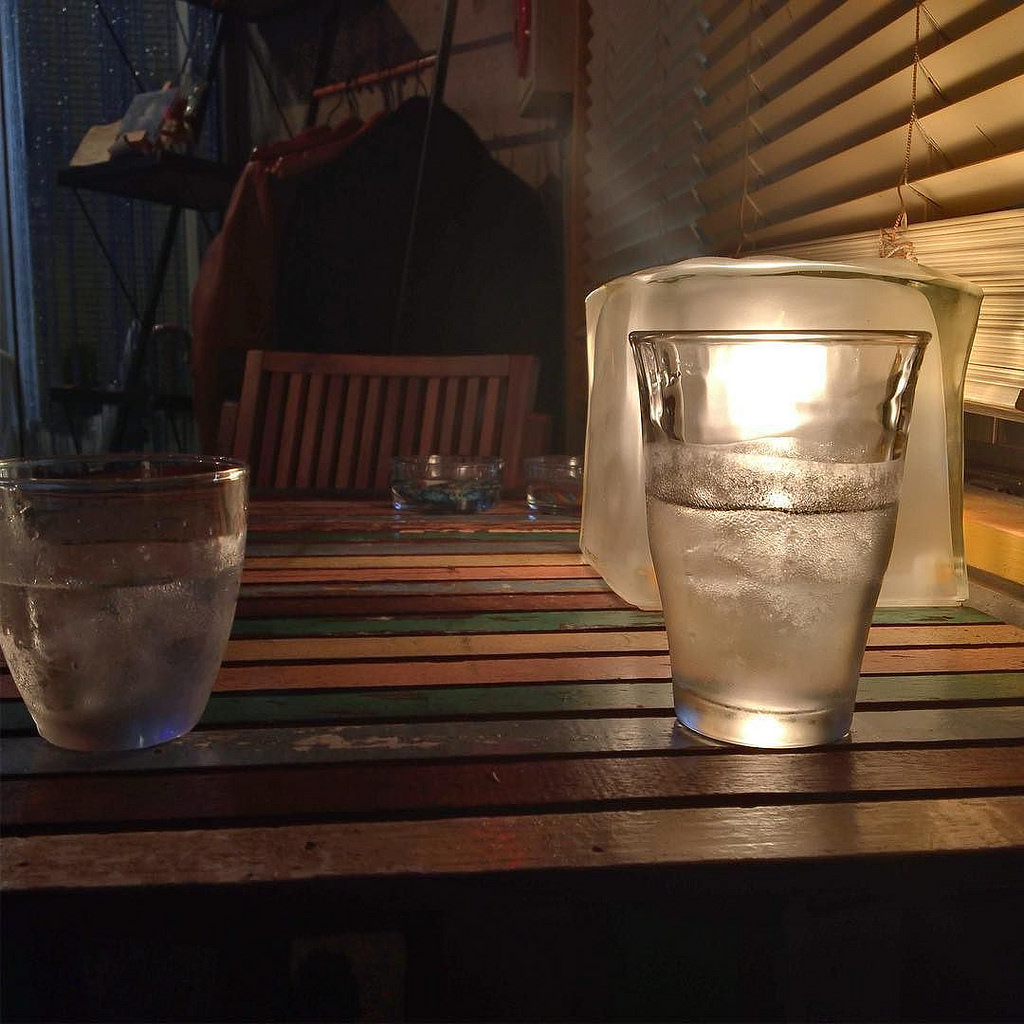glass of water: (642, 342, 881, 758), (19, 468, 240, 742)
